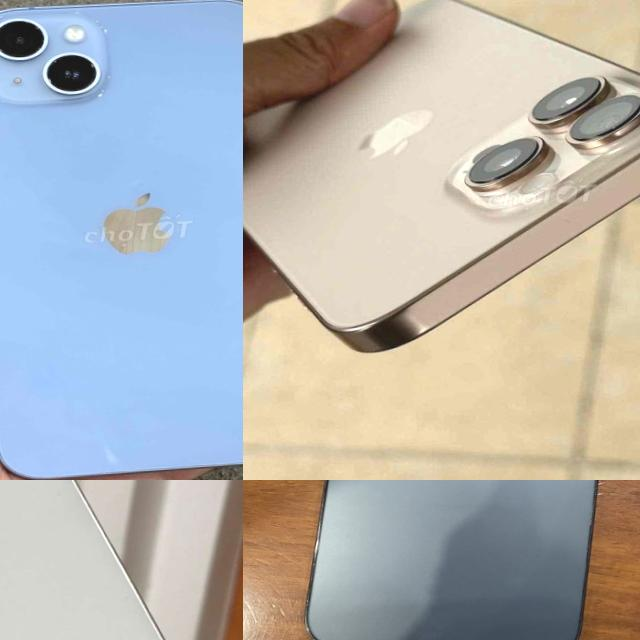gen_12_13: (273, 480, 640, 640)
gen_14: (0, 0, 243, 480)
gen_15: (0, 480, 243, 640)
gen_16: (243, 0, 640, 352)
